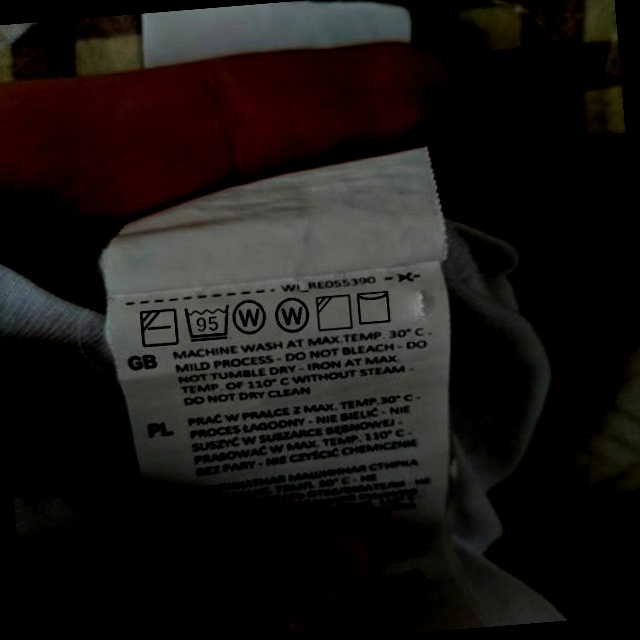95C: (182, 301, 233, 343)
dry_flat_in_shade: (137, 305, 180, 350)
line_dry: (354, 286, 396, 327)
shade_dry: (314, 291, 355, 333)
wet_clean: (273, 295, 312, 337), (232, 294, 270, 337)
